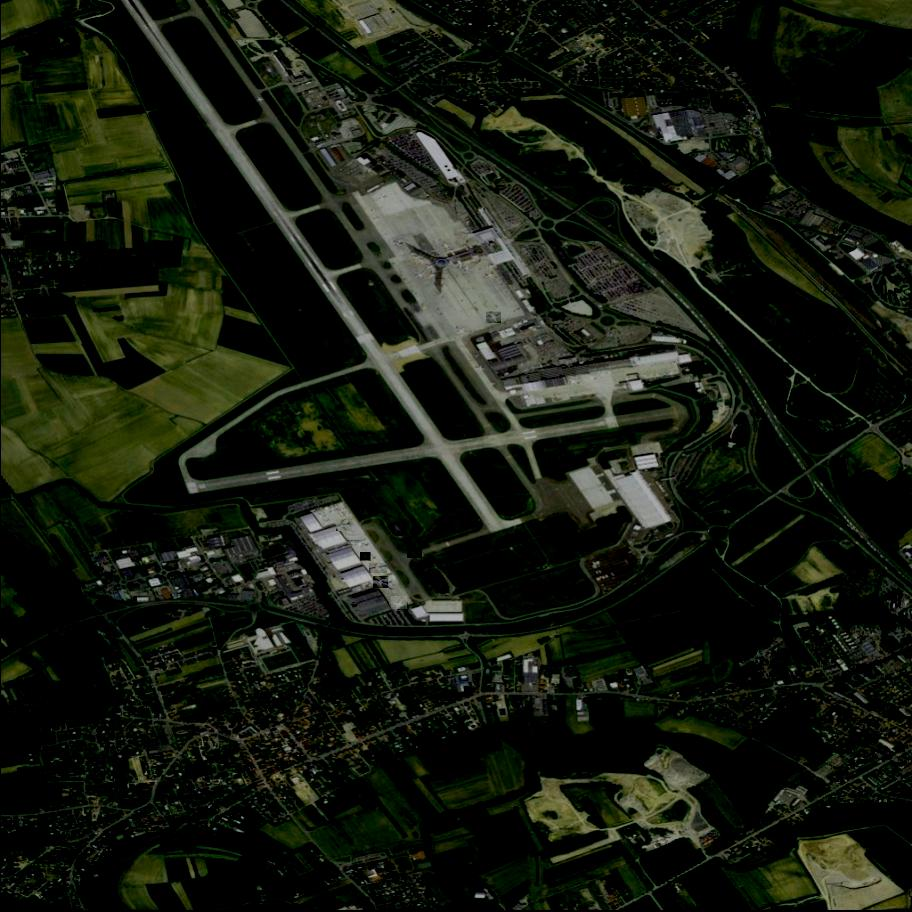plane: (391, 594, 407, 612), (337, 519, 353, 532), (374, 576, 389, 588), (487, 312, 501, 324), (369, 564, 387, 572), (347, 531, 360, 541), (407, 550, 421, 557), (361, 553, 370, 560)
